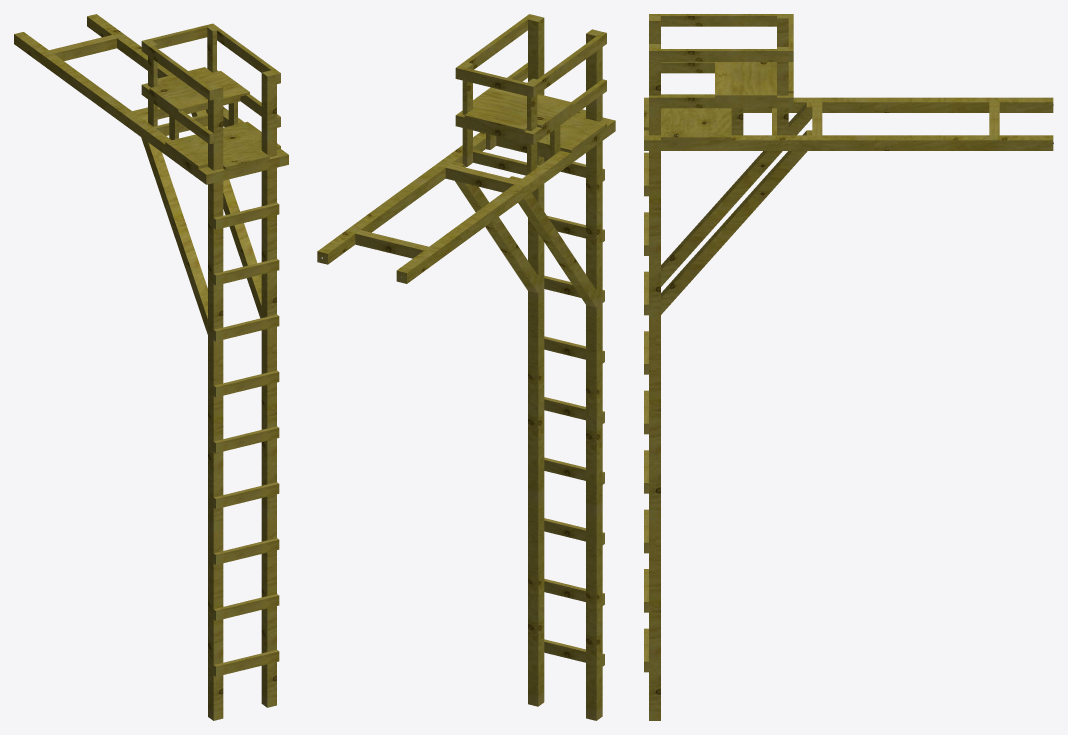
File: treestand.fbx
3 views of the same model, side by side, from view 1: azimuth 30°, elevation 25°; view 2: azimuth 150°, elevation 25°; view 3: azimuth 270°, elevation 25° (orthographic). The views are drawn at different scales.
Visible parts, largest first — view 1: Legs1, Legs2, Component_13_1, Component_5_1, Component_2_1, Component_11_1, Component_5_2, Component_12_1, Component_9_4, Component_9_1, step3, step12 (+13 smaller); view 2: Legs1, Legs2, Component_13_1, Component_12_1, Component_11_1, Component_5_1, Component_5_2, Component_2_1, Component_9_4, Component_10_2, Component_9_1, Component_10_1 (+14 smaller); view 3: Legs2, Component_12_1, Component_13_1, Component_5_2, Component_5_1, Component_2_1, Component_11_1, Component_9_2, Component_9_3, Component_9_4, Component_7_1, Component_9_1.
Boxes of the visible parts, box(x1,y1,x2,y2) form: Legs1: box(208, 83, 223, 720); Legs2: box(261, 70, 276, 707); Component_13_1: box(14, 32, 215, 184); Component_5_1: box(137, 112, 207, 334); Component_2_1: box(165, 121, 280, 169); Component_11_1: box(149, 67, 249, 111); Component_5_2: box(191, 110, 261, 318); Component_12_1: box(87, 14, 288, 166); Component_9_4: box(144, 41, 213, 100); Component_9_1: box(144, 85, 213, 144); step3: box(213, 314, 279, 341); step12: box(213, 594, 279, 620); Legs1: box(586, 29, 602, 720); Legs2: box(528, 15, 544, 706); Component_13_1: box(396, 118, 615, 283); Component_12_1: box(317, 132, 485, 264); Component_11_1: box(464, 87, 573, 131); Component_5_1: box(509, 176, 596, 307); Component_5_2: box(451, 162, 538, 293); Component_2_1: box(537, 109, 606, 152); Component_9_4: box(532, 32, 606, 95); Component_10_2: box(455, 66, 535, 97); Component_9_1: box(532, 79, 606, 142); Component_10_1: box(455, 113, 535, 144); Legs2: box(649, 44, 660, 720); Component_12_1: box(644, 135, 1053, 150); Component_13_1: box(644, 97, 1053, 112); Component_5_2: box(661, 130, 812, 314); Component_5_1: box(661, 102, 812, 286); Component_2_1: box(644, 94, 731, 140); Component_11_1: box(715, 62, 793, 97); Component_9_2: box(649, 95, 788, 108); Component_9_3: box(649, 49, 788, 61); Component_9_4: box(649, 14, 788, 26); Component_7_1: box(777, 47, 788, 135); Component_9_1: box(661, 62, 714, 73).
Size of the model in its own units: 30.12 by 220 by 122.
